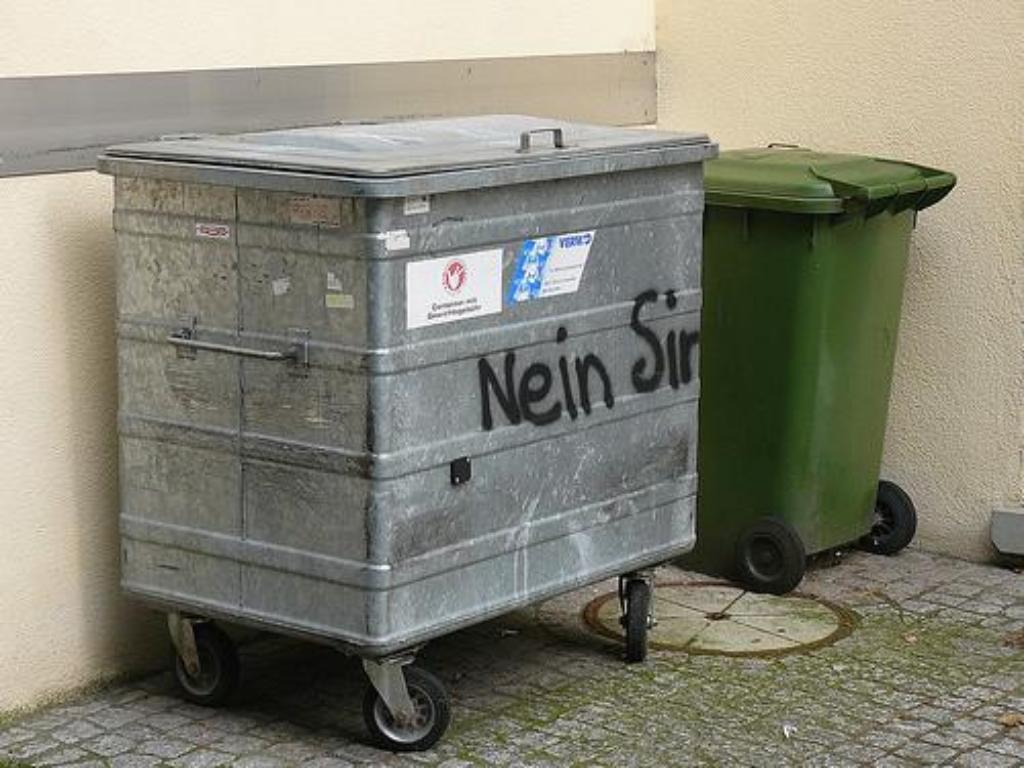dustbin: (105, 115, 715, 706), (707, 134, 956, 573)
